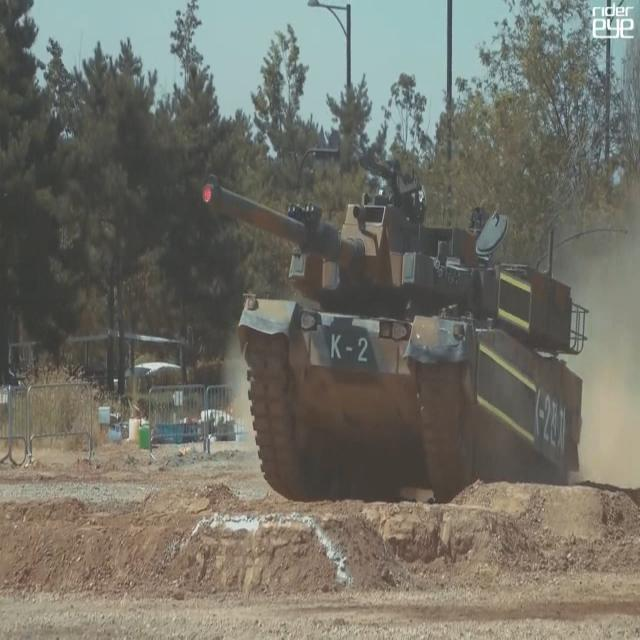korea tank: (200, 150, 590, 502)
